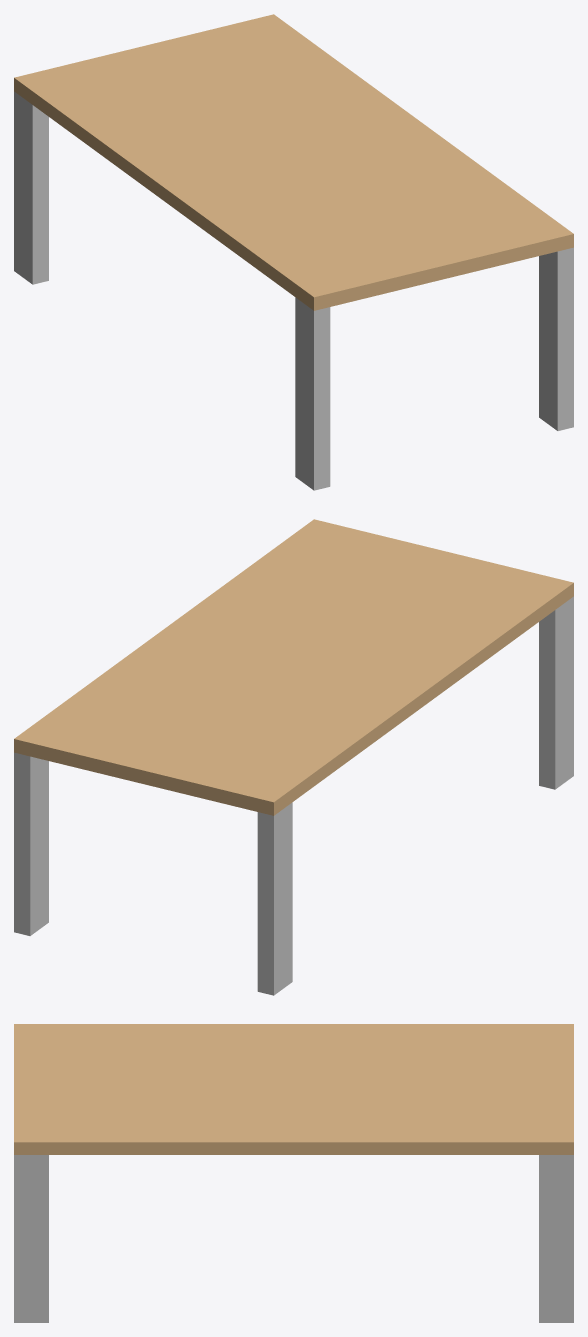
Rendered from office-desk.fbx.
3 renders of one model, top to bottom at view 1: azimuth 30°, elevation 25°; view 2: azimuth 150°, elevation 25°; view 3: azimuth 270°, elevation 25°, orthographic. The views are drawn at different scales.
Parts seen in each view (by area): view 1: Cube; view 2: Cube; view 3: Cube.
Boxes of the visible parts, left/top/right/bottom form: Cube: left=14, top=14, right=573, bottom=490; Cube: left=14, top=519, right=573, bottom=995; Cube: left=14, top=1024, right=573, bottom=1322.
Size of the model in its own units: 200 by 142 by 400.
